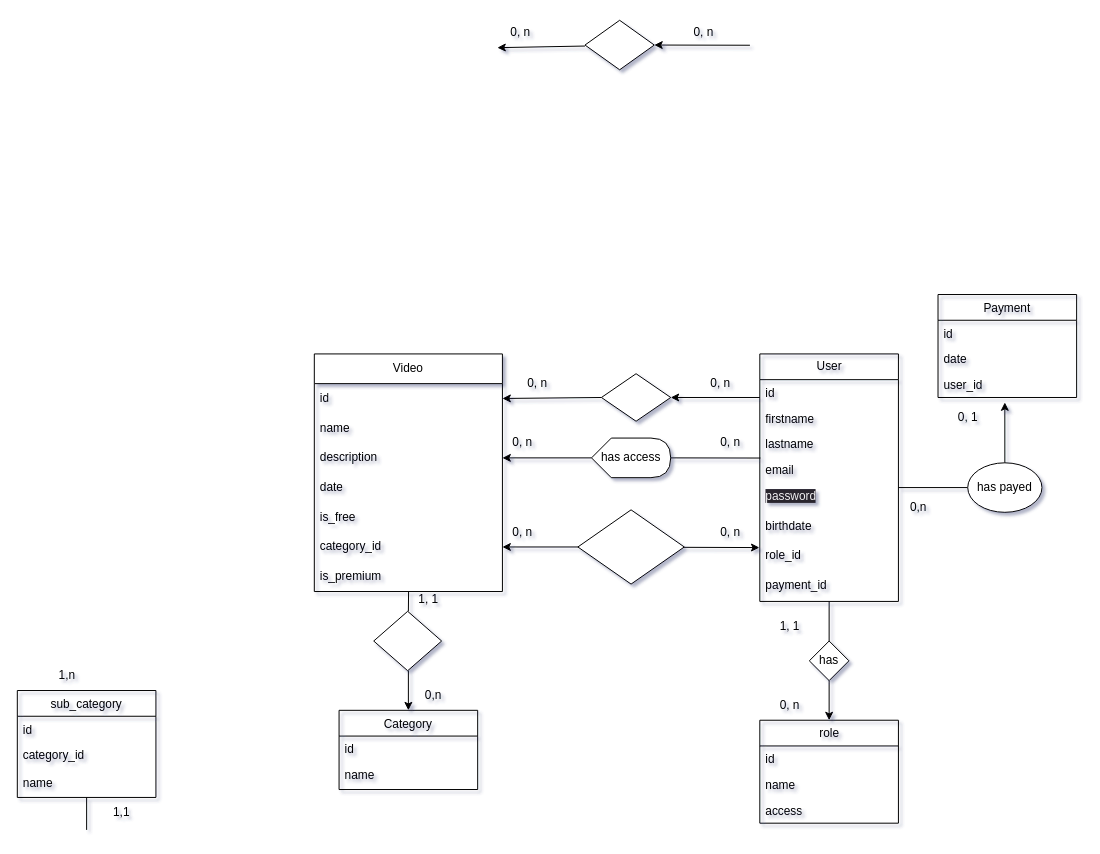
Some shapes in this 1100 by 854 pixel diagram are drawn without their labels. The centre of each missing label's shape, as x and y in pixels:
"add / update / delete" goes at (630,546).
"belongs to" goes at (407,640).
"favorite" goes at (635,397).
"historique" goes at (619,44).
